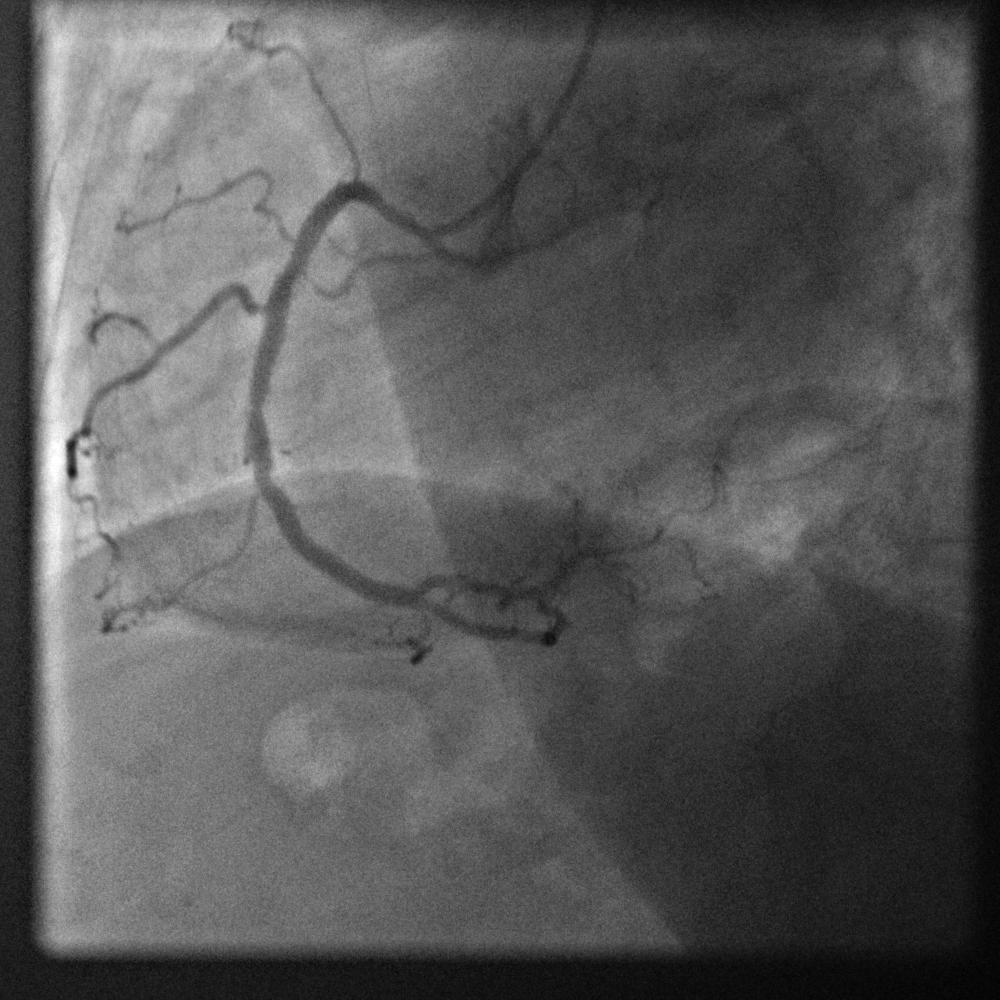Stenosis: (275, 226, 314, 279)
